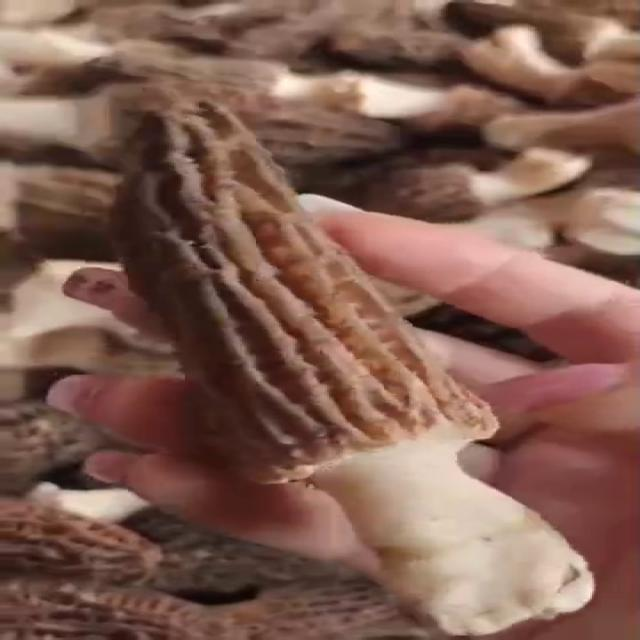Morchella esculenta: (112, 91, 600, 637)
